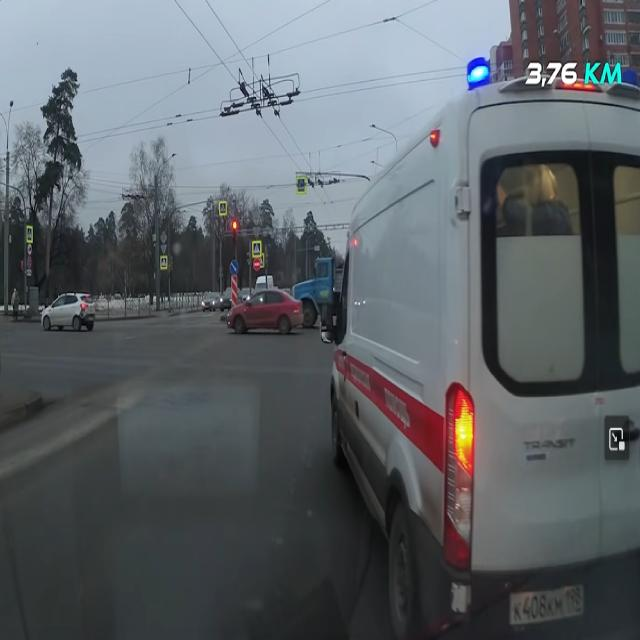ambulance: (333, 82, 639, 639)
non emergency car: (293, 252, 346, 334), (227, 285, 303, 338), (43, 286, 97, 334), (201, 290, 219, 312), (220, 285, 234, 311)
